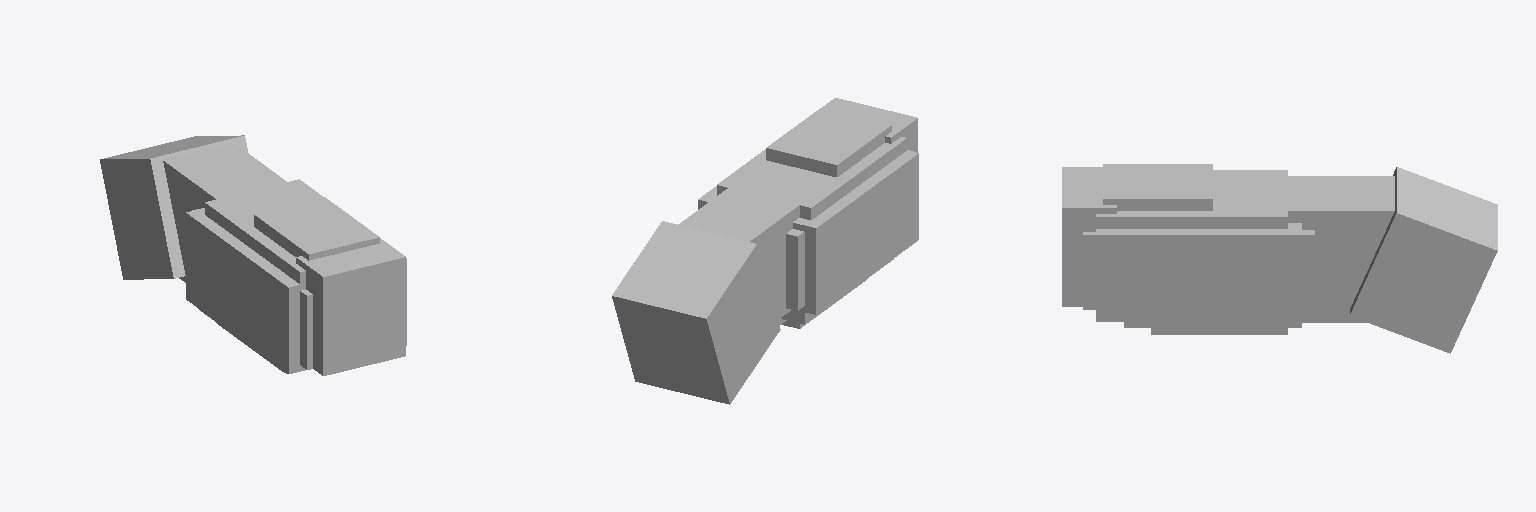
File: tiger_body.obj
3 views of the same model, side by side, from view 1: azimuth 30°, elevation 25°; view 2: azimuth 150°, elevation 25°; view 3: azimuth 270°, elevation 25° (orthographic).
Parts seen in each view (by area): view 1: Element #24, Element #10, Element #32, Element #31, Element #4, Element #18, Element #22; view 2: Element #32, Element #24, Element #31, Element #18, Element #4, Element #10, Element #22; view 3: Element #24, Element #32, Element #31, Element #18, Element #4, Element #10, Element #22, Element #23, Element #17, Element #3.
Boxes of the visible parts, box(x1,y1,x2,y2) form: Element #24: box(186, 208, 406, 373); Element #10: box(296, 238, 405, 375); Element #32: box(100, 135, 247, 279); Element #31: box(163, 143, 286, 274); Element #4: box(254, 197, 379, 260); Element #18: box(205, 179, 323, 284); Element #22: box(192, 208, 312, 369); Element #32: box(612, 221, 780, 404); Element #24: box(698, 150, 918, 314); Element #31: box(678, 188, 799, 319); Element #18: box(717, 137, 906, 219); Element #4: box(766, 108, 891, 176); Element #10: box(822, 98, 917, 152); Element #22: box(786, 150, 913, 310); Element #24: box(1096, 223, 1301, 321); Element #32: box(1350, 167, 1497, 353); Element #31: box(1288, 176, 1394, 309); Element #18: box(1096, 170, 1287, 228); Element #4: box(1103, 164, 1212, 210); Element #10: box(1062, 167, 1116, 306); Element #22: box(1083, 230, 1314, 309); Element #23: box(1124, 322, 1301, 327); Element #17: box(1151, 328, 1287, 334); Element #3: box(1302, 310, 1366, 322).
Size of the model in its own units: 10 by 12.06 by 31.84.